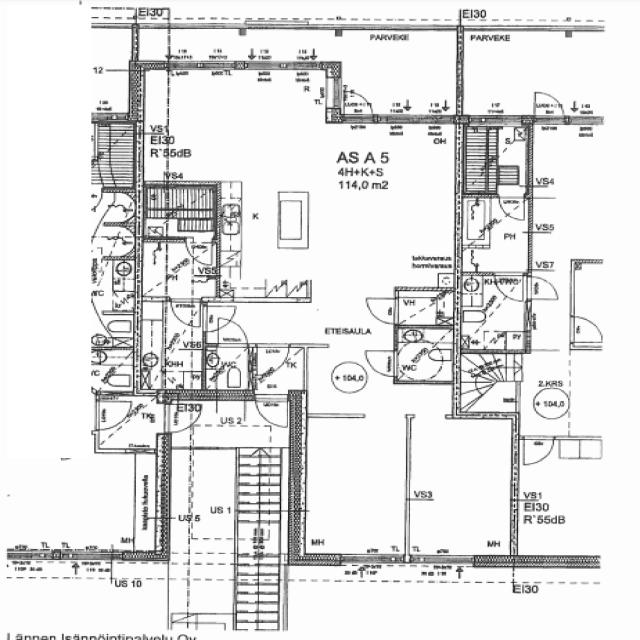door: (252, 342, 304, 392), (205, 304, 247, 345), (252, 392, 291, 428), (530, 88, 566, 125), (341, 87, 376, 123), (569, 314, 607, 346), (185, 236, 218, 271), (520, 435, 556, 467), (169, 298, 203, 331), (493, 272, 528, 303), (497, 190, 528, 223), (364, 296, 398, 326), (365, 348, 398, 378), (526, 275, 560, 301)
window: (377, 112, 452, 128), (411, 553, 474, 569), (337, 552, 397, 568), (567, 268, 581, 320), (564, 114, 607, 128), (243, 60, 281, 72), (409, 411, 447, 422)
zone: (148, 71, 334, 173), (404, 413, 518, 563), (299, 410, 407, 561), (141, 298, 206, 395), (462, 198, 531, 272), (460, 275, 527, 351), (462, 122, 529, 192), (142, 238, 218, 298), (142, 184, 218, 235), (97, 394, 163, 451), (394, 327, 453, 385), (94, 119, 140, 186), (250, 343, 306, 394), (205, 345, 251, 393), (395, 291, 453, 327), (92, 345, 135, 393), (93, 67, 131, 121), (461, 196, 491, 249)
